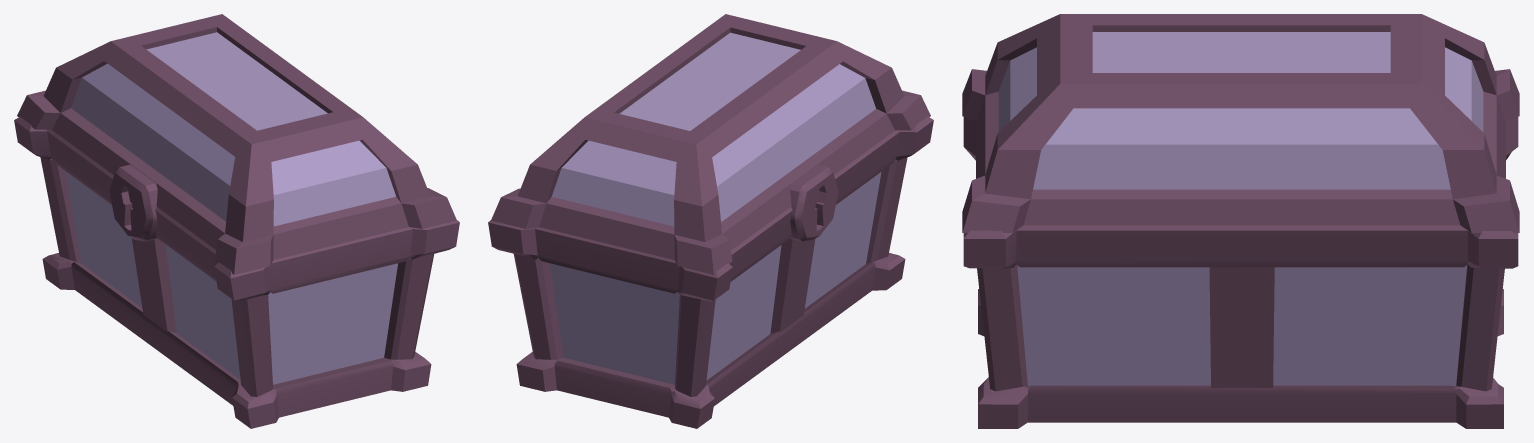
The model's file is ClosedPurpleChest.fbx.
The picture shows the model from 3 angles, left to right: view 1: azimuth 30°, elevation 25°; view 2: azimuth 150°, elevation 25°; view 3: azimuth 270°, elevation 25°; orthographic projection. The views are drawn at different scales.
Visible parts, largest first — view 1: Frame, LidFrame, LidSides, Sides1, Lock; view 2: Frame, LidFrame, LidSides, Sides1, Lock; view 3: LidFrame, Frame, LidSides, Sides1.
Part boxes in pixels (<box>): Frame: <box>14,117,459,428</box>; LidFrame: <box>17,14,456,274</box>; LidSides: <box>71,32,395,226</box>; Sides1: <box>65,171,397,384</box>; Lock: <box>109,164,157,241</box>; Frame: <box>488,116,933,428</box>; LidFrame: <box>491,14,930,274</box>; LidSides: <box>552,32,875,226</box>; Sides1: <box>550,172,881,384</box>; Lock: <box>790,164,838,241</box>; LidFrame: <box>962,14,1519,232</box>; Frame: <box>963,117,1518,428</box>; LidSides: <box>998,32,1483,189</box>; Sides1: <box>1017,265,1467,385</box>.
Bounding box in the file's own units: 44.02 × 46.39 × 72.14.
